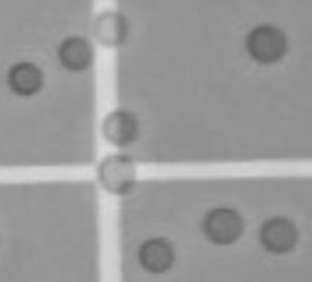cell: (241, 21, 290, 69), (200, 203, 248, 249), (95, 150, 141, 197), (254, 211, 300, 257), (85, 6, 131, 49), (96, 104, 142, 146), (53, 30, 96, 73), (5, 59, 48, 100), (135, 234, 176, 276)
